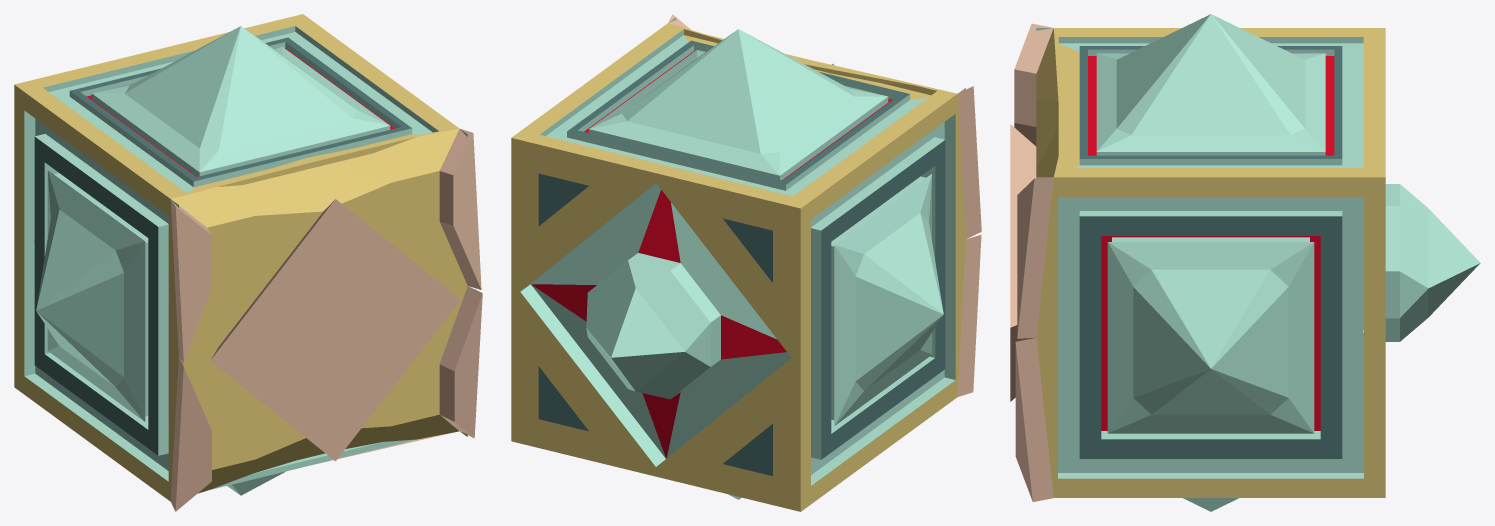
The model's file is Bomb.fbx.
3 renders of one model, left to right at view 1: azimuth 30°, elevation 25°; view 2: azimuth 150°, elevation 25°; view 3: azimuth 270°, elevation 25°, orthographic. The views are drawn at different scales.
Parts seen in each view (by area): view 1: Куб; view 2: Куб; view 3: Куб.
Boxes of the visible parts, bbox=[...] form: Куб: bbox=[14, 14, 482, 511]; Куб: bbox=[511, 14, 981, 511]; Куб: bbox=[1010, 14, 1480, 511].
Size of the model in its own units: 283 by 310 by 265.
